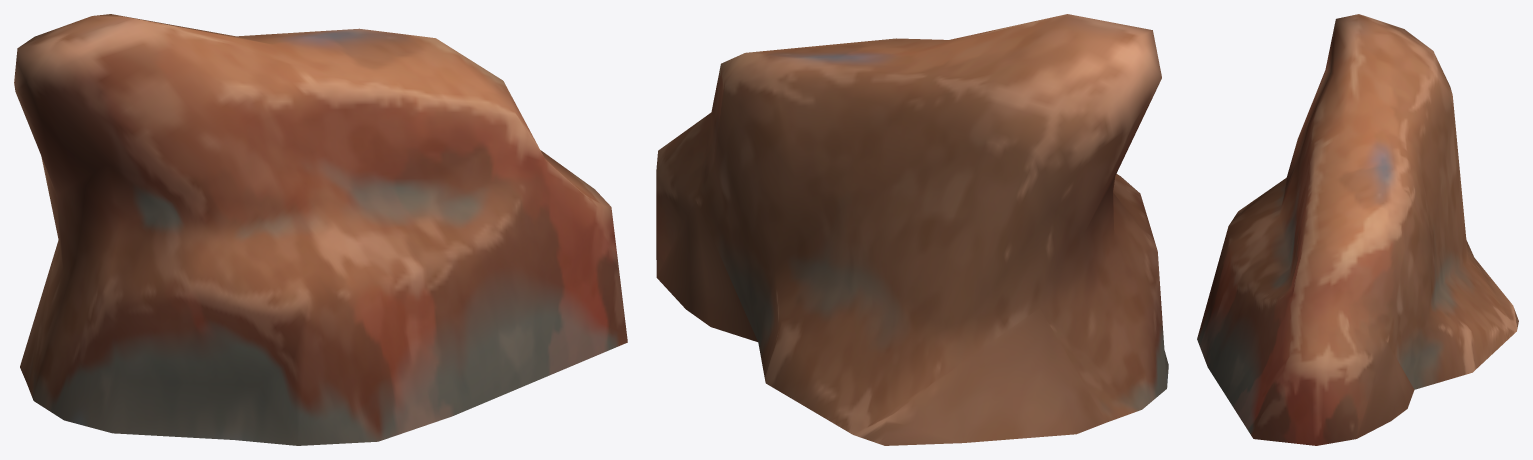
Rendered from rock_new04.FBX.
The picture shows the model from 3 angles, left to right: view 1: azimuth 30°, elevation 25°; view 2: azimuth 150°, elevation 25°; view 3: azimuth 270°, elevation 25°; orthographic projection. The views are drawn at different scales.
Visible parts, largest first — view 1: rock_new04; view 2: rock_new04; view 3: rock_new04.
Part boxes in pixels (x1,y1,x2,y2): rock_new04: (14, 14, 627, 445); rock_new04: (656, 14, 1168, 445); rock_new04: (1197, 14, 1518, 445).
Size of the model in its own units: 679 by 448 by 501.
1 material, 1 textured.
